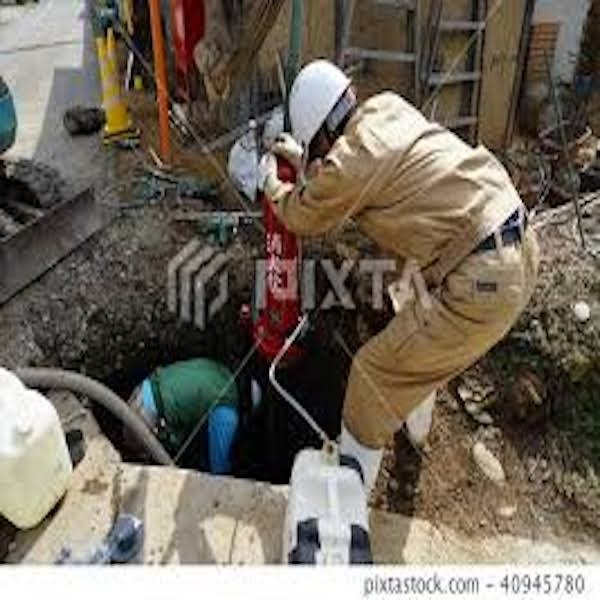helmet: (286, 58, 352, 151)
